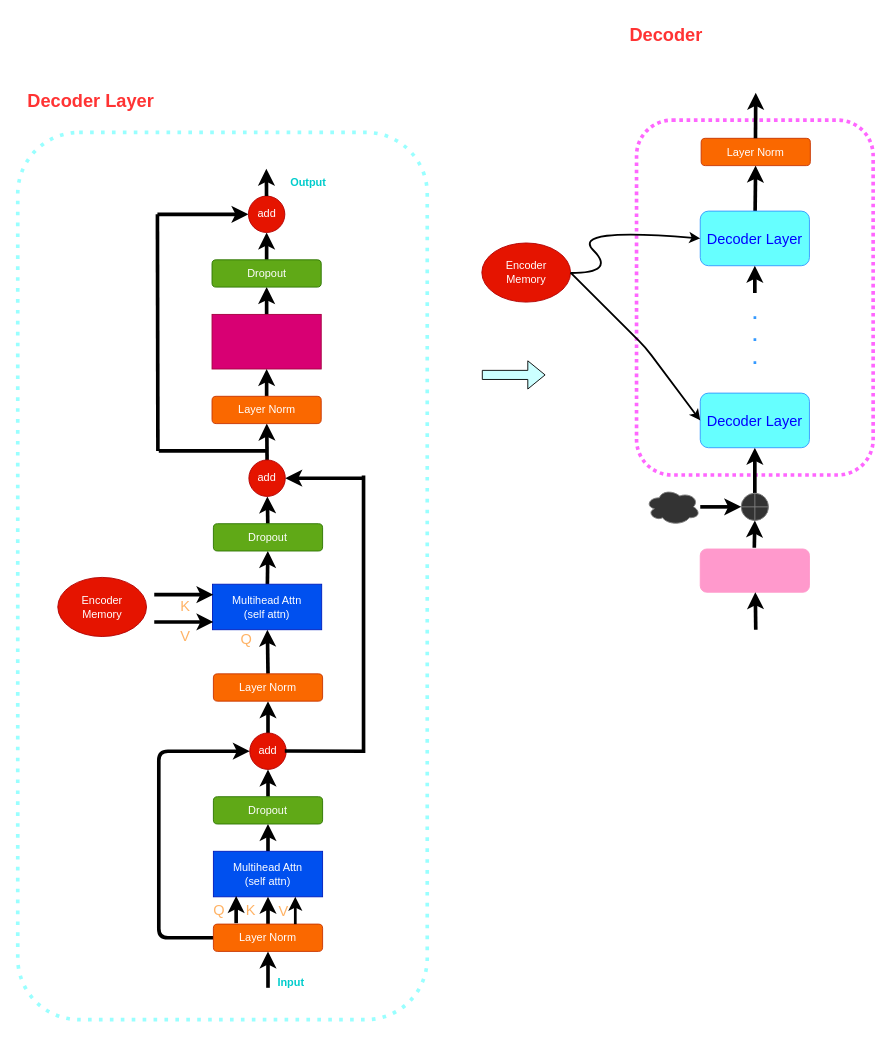
Some shapes in this 890 by 1037 pixel diagram are drawn without their labels. Here are the shapes that lost their labels. From the top down, the box of each, then its label:
(211, 313, 321, 369): Feed-Forward
(645, 488, 700, 525): PE
(699, 548, 809, 592): Output Embedding
